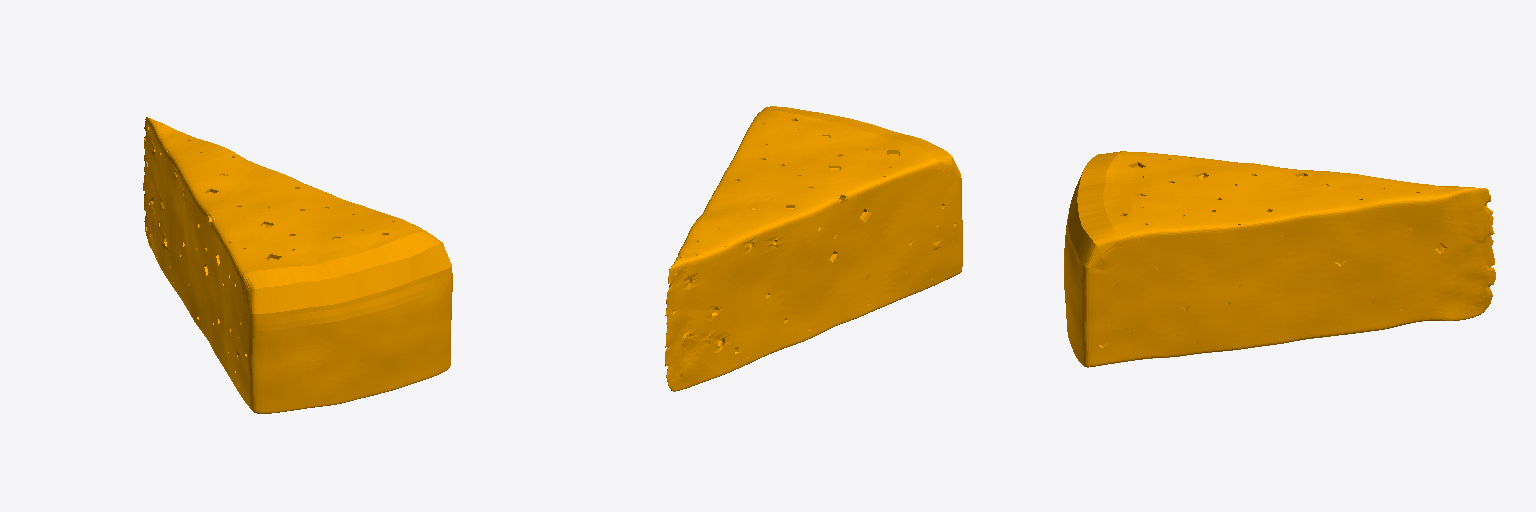
The model's file is cheese.obj.
The picture shows the model from 3 angles: view 1: azimuth 30°, elevation 25°; view 2: azimuth 150°, elevation 25°; view 3: azimuth 270°, elevation 25°; orthographic projection.
Parts seen in each view (by area): view 1: Line06, Line06_1; view 2: Line06; view 3: Line06, Line06_1.
Part boxes in pixels (bbox=[...]): Line06: bbox=[143, 117, 451, 413]; Line06_1: bbox=[250, 243, 452, 413]; Line06: bbox=[665, 106, 961, 391]; Line06: bbox=[1077, 151, 1495, 367]; Line06_1: bbox=[1064, 172, 1093, 366].
Size of the model in its own units: 103 by 66.1 by 192.